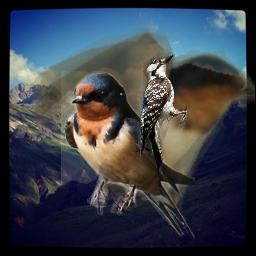Swallow: (27, 28, 255, 212), (61, 71, 195, 241)
Woodpecker: (136, 51, 187, 180)
